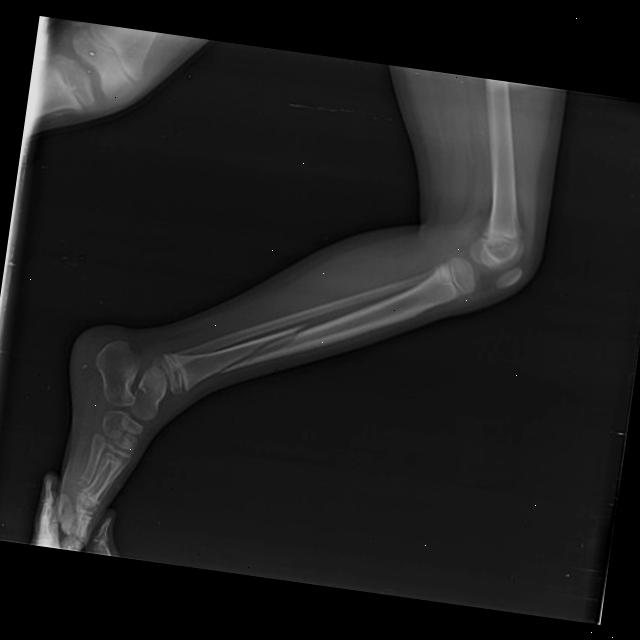fractured: (212, 321, 315, 376)
